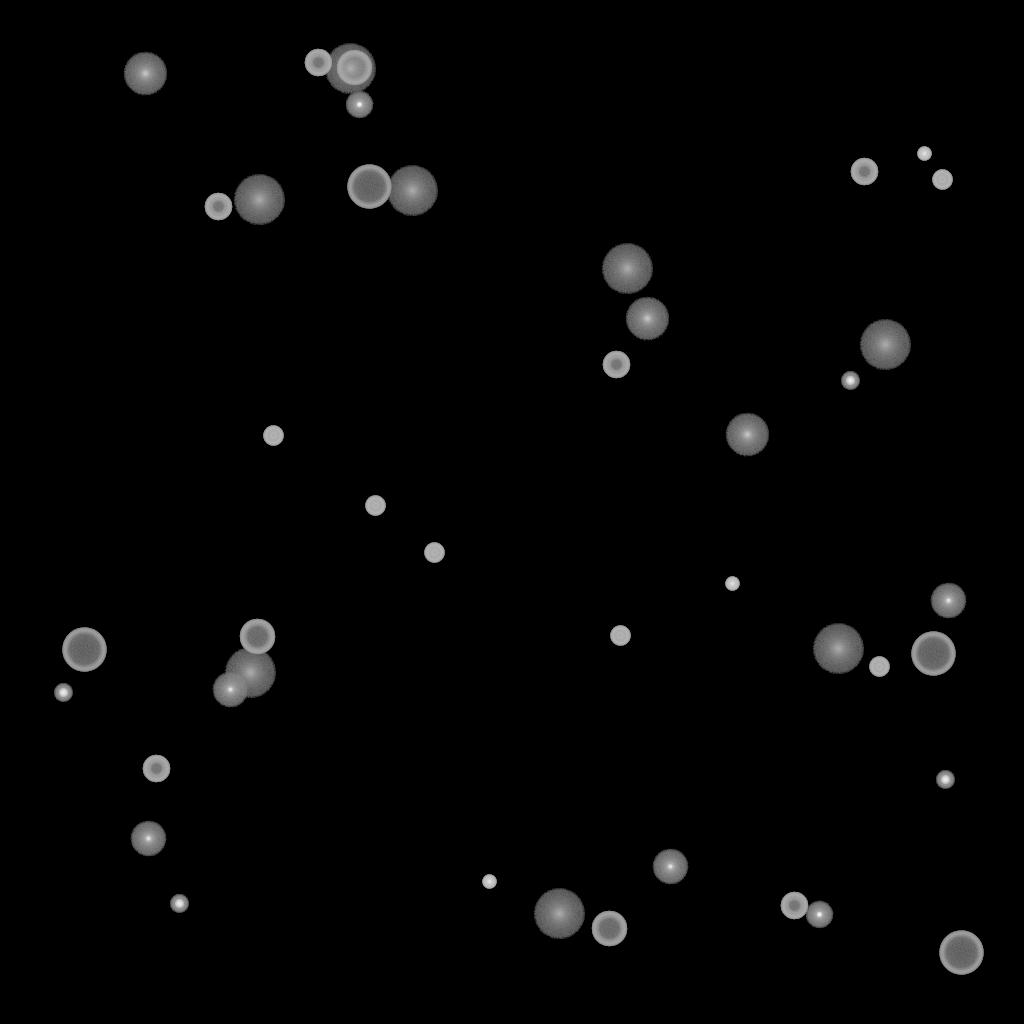depth:-10: (345, 91, 373, 119), (805, 901, 833, 929)
depth:-20: (936, 771, 954, 789), (54, 684, 72, 702), (170, 895, 188, 913), (841, 372, 859, 390)
depth:-30: (917, 147, 931, 161), (482, 875, 496, 889), (725, 577, 739, 591)
depth:-40: (365, 496, 385, 516), (932, 170, 952, 190), (869, 657, 889, 677), (610, 626, 630, 646), (424, 543, 444, 563), (263, 426, 283, 446)
depth:-50: (142, 755, 170, 783), (602, 351, 630, 379), (850, 158, 878, 186), (780, 892, 808, 920), (204, 193, 232, 221), (304, 49, 332, 77)
depth:-60: (239, 619, 275, 655), (336, 50, 372, 86), (591, 911, 627, 947)
depth:-70: (347, 165, 391, 209), (62, 628, 106, 672), (911, 632, 955, 676), (939, 931, 983, 975)
depth:0: (130, 821, 166, 857), (652, 849, 688, 885), (212, 672, 248, 708), (930, 583, 966, 619)
depth:10: (625, 297, 669, 341), (123, 52, 167, 96), (725, 413, 769, 457)
depth:20: (859, 320, 911, 370), (224, 648, 276, 698), (386, 166, 438, 216), (233, 175, 285, 225), (324, 44, 376, 94), (812, 624, 864, 674), (533, 889, 585, 939), (601, 244, 653, 294)
